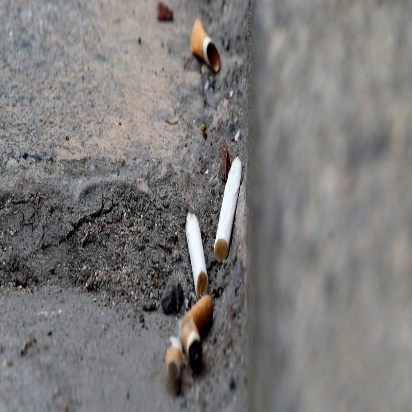cigarette: (213, 150, 246, 260), (179, 207, 214, 294), (183, 17, 230, 81), (175, 292, 217, 363), (160, 333, 185, 391)
